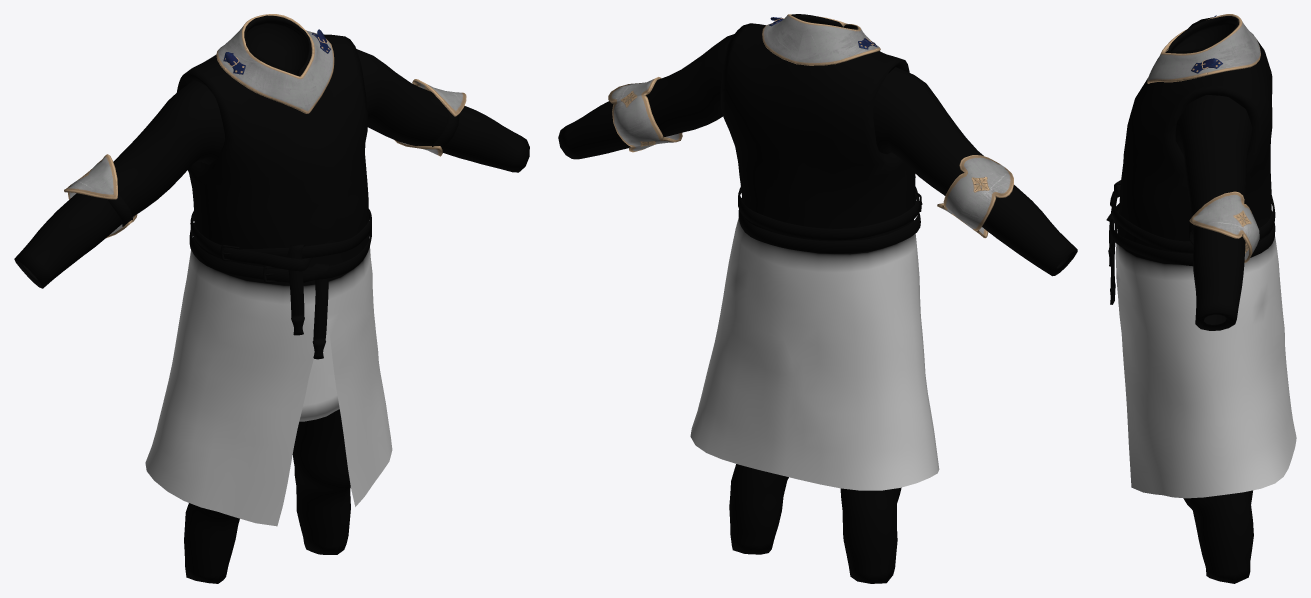
The model's file is swan_knight_armor_tabard2_t3.fbx.
3 renders of one model, left to right at view 1: azimuth 30°, elevation 25°; view 2: azimuth 150°, elevation 25°; view 3: azimuth 270°, elevation 25°, orthographic. The views are drawn at different scales.
Parts seen in each view (by area): view 1: swan_knight_armor_tabard2_t3.0, swan_knight_armor_tabard2_t3.1; view 2: swan_knight_armor_tabard2_t3.0, swan_knight_armor_tabard2_t3.1; view 3: swan_knight_armor_tabard2_t3.0, swan_knight_armor_tabard2_t3.1.
Part boxes in pixels (x1,y1,x2,y2): swan_knight_armor_tabard2_t3.0: (14,15,529,583); swan_knight_armor_tabard2_t3.1: (64,14,466,238); swan_knight_armor_tabard2_t3.0: (558,14,1077,583); swan_knight_armor_tabard2_t3.1: (608,14,1013,238); swan_knight_armor_tabard2_t3.0: (1106,16,1296,583); swan_knight_armor_tabard2_t3.1: (1147,14,1260,262).
Bounding box in the file's own units: 1.34 × 0.4478 × 1.37.
